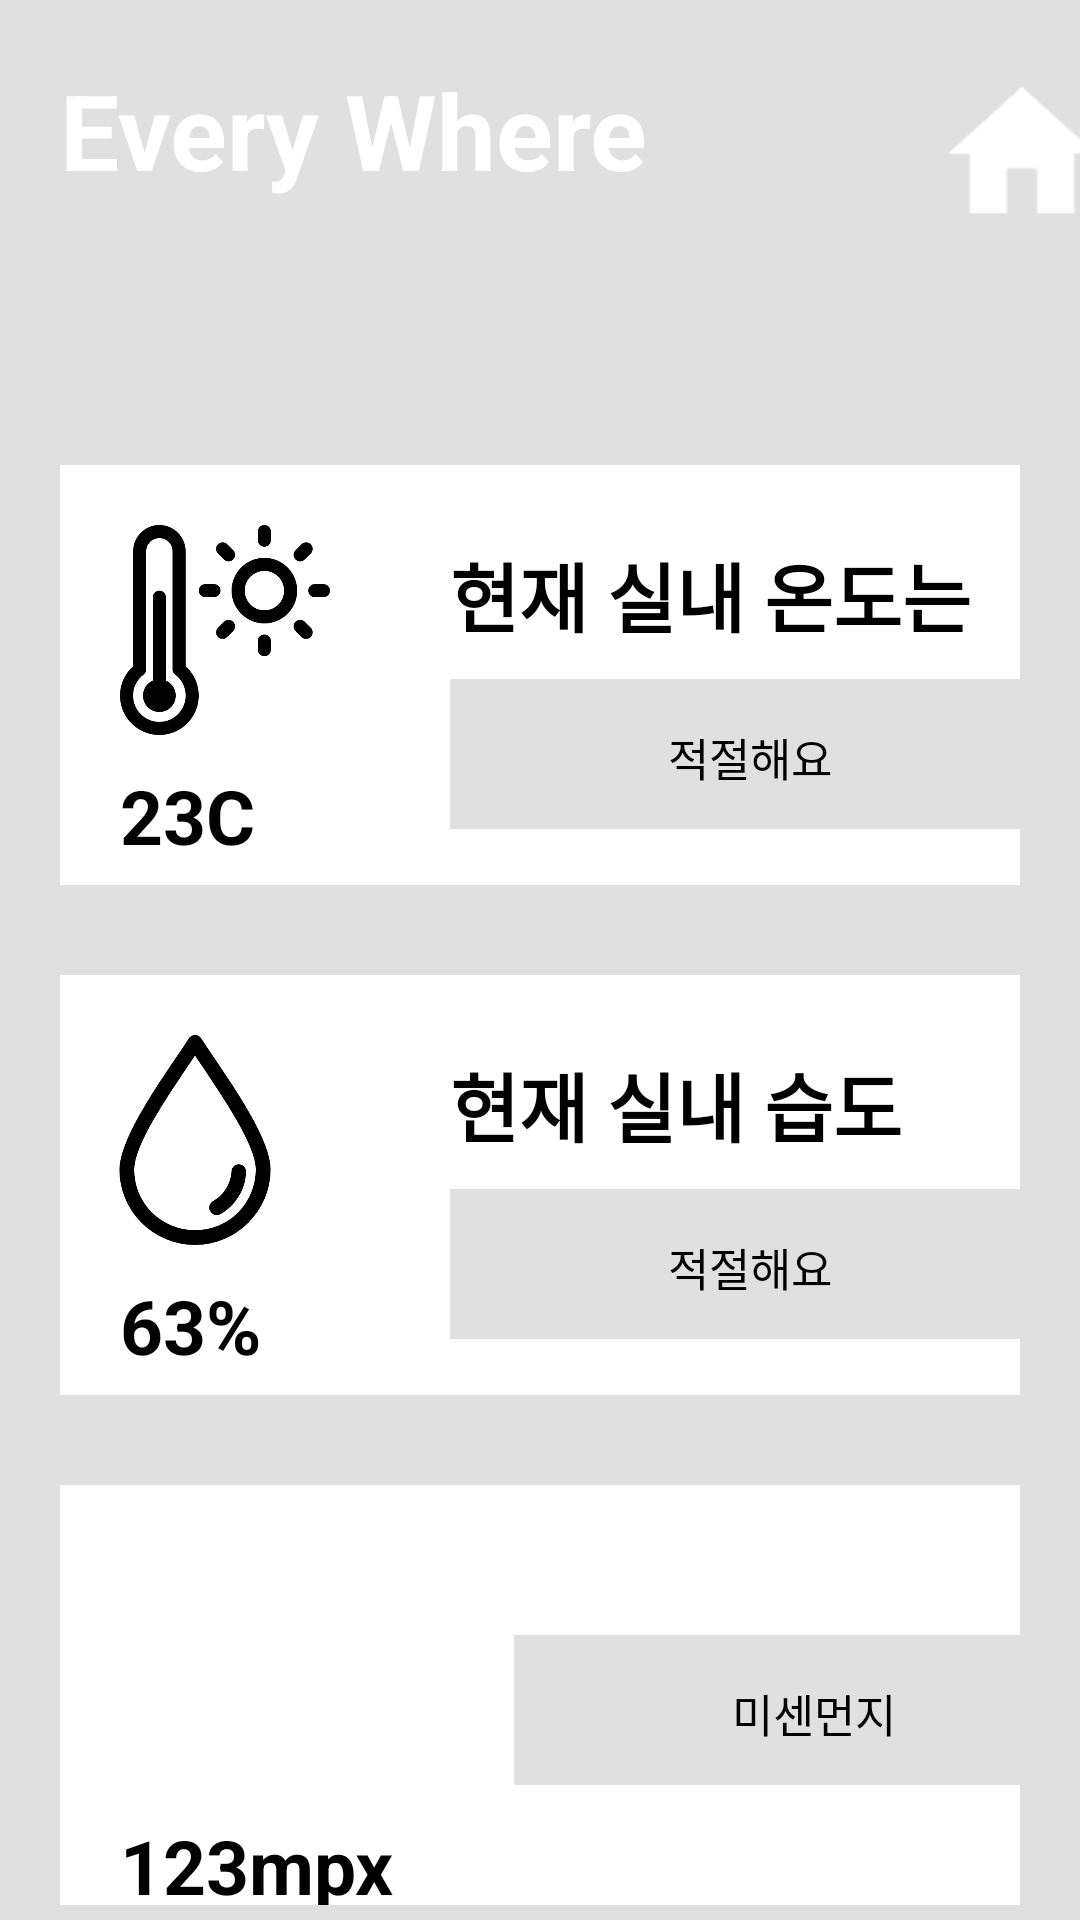

Icons on this 1080w x 1920h Android screen, each with its box as (x1, y1, x2, y2):
temperature: (120, 525, 330, 735)
water: (119, 1035, 271, 1245)
